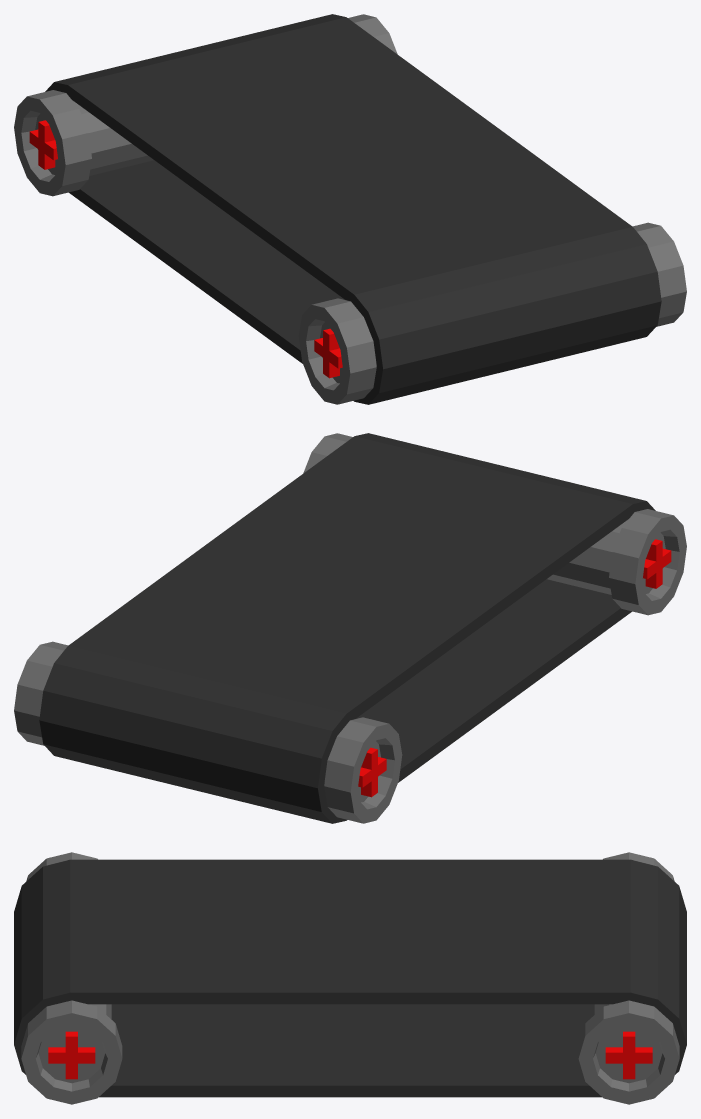
File: Conveyorbelt_A_Final.fbx
3 views of the same model, one above another, from view 1: azimuth 30°, elevation 25°; view 2: azimuth 150°, elevation 25°; view 3: azimuth 270°, elevation 25° (orthographic). The views are drawn at different scales.
Visible parts, largest first — view 1: Cylinder.016; view 2: Cylinder.016; view 3: Cylinder.016.
Boxes of the visible parts, x1,y1,x2,y2 form: Cylinder.016: (14,14,686,404); Cylinder.016: (14,433,686,823); Cylinder.016: (14,852,686,1104).
Size of the model in its own units: 93.12 by 28.33 by 165.
